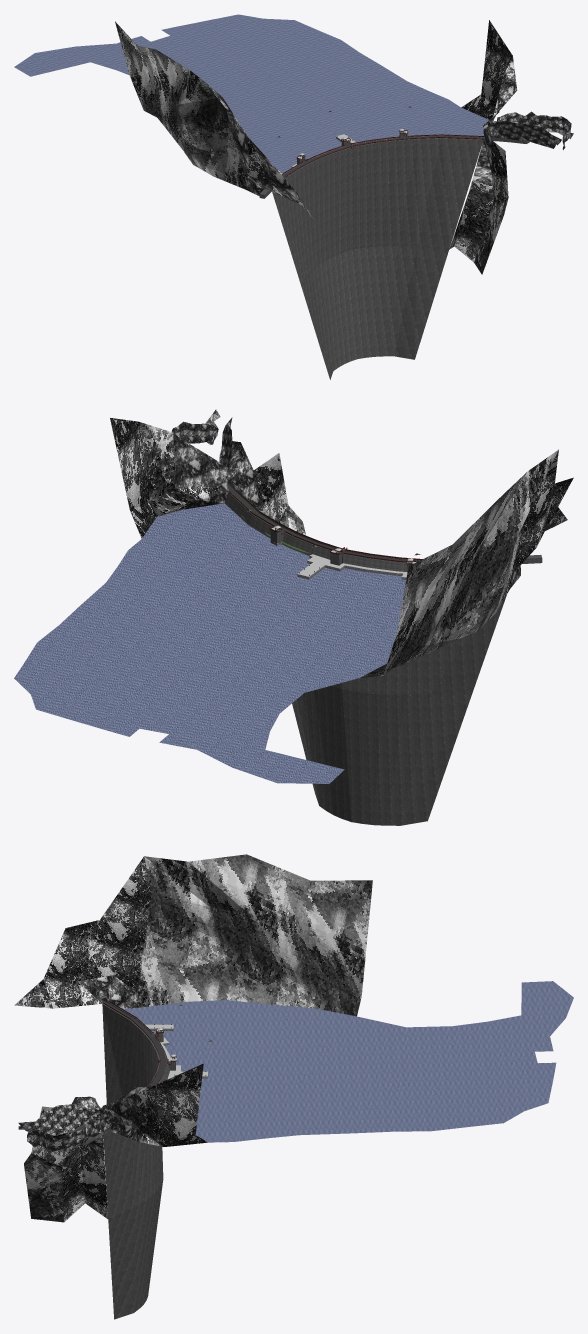
Rendered from dam8.obj.
3 renders of one model, top to bottom at view 1: azimuth 30°, elevation 25°; view 2: azimuth 150°, elevation 25°; view 3: azimuth 270°, elevation 25°, orthographic. The views are drawn at different scales.
Parts seen in each view (by area): view 1: 003_4E6D6411_c.bmp, 134_255D277A_c.bmp, 130_255D277A_c.bmp, 004_103AE2DC_c.bmp, 002_250FD62A_c.bmp, 001_103AE2DC_c.bmp, 138_255D277A_c.bmp, 136_255D277A_c.bmp, 137_255D277A_c.bmp, 131_255D277A_c.bmp, 133_255D277A_c.bmp, 005_250FD62A_c.bmp (+3 smaller); view 2: 003_4E6D6411_c.bmp, 004_103AE2DC_c.bmp, 133_255D277A_c.bmp, 005_250FD62A_c.bmp, 138_255D277A_c.bmp, 132_255D277A_c.bmp, 131_255D277A_c.bmp, 000_250FD62A_c.bmp, 002_250FD62A_c.bmp, 130_255D277A_c.bmp, 009_250FD62A_c.bmp, 001_103AE2DC_c.bmp (+5 smaller); view 3: 003_4E6D6411_c.bmp, 004_103AE2DC_c.bmp, 000_250FD62A_c.bmp, 001_103AE2DC_c.bmp, 002_250FD62A_c.bmp, 005_250FD62A_c.bmp, 130_255D277A_c.bmp, 134_255D277A_c.bmp, 138_255D277A_c.bmp, 009_250FD62A_c.bmp, 131_255D277A_c.bmp.
Boxes of the visible parts, x1=… form: 003_4E6D6411_c.bmp: x1=14, y1=14, x2=488, y2=173; 134_255D277A_c.bmp: x1=381, y1=138, x2=483, y2=249; 130_255D277A_c.bmp: x1=374, y1=245, x2=448, y2=359; 004_103AE2DC_c.bmp: x1=115, y1=21, x2=212, y2=175; 002_250FD62A_c.bmp: x1=449, y1=140, x2=508, y2=274; 001_103AE2DC_c.bmp: x1=178, y1=70, x2=246, y2=189; 138_255D277A_c.bmp: x1=272, y1=159, x2=327, y2=285; 136_255D277A_c.bmp: x1=350, y1=141, x2=393, y2=249; 137_255D277A_c.bmp: x1=318, y1=148, x2=352, y2=258; 131_255D277A_c.bmp: x1=350, y1=246, x2=380, y2=358; 133_255D277A_c.bmp: x1=301, y1=259, x2=344, y2=379; 005_250FD62A_c.bmp: x1=461, y1=20, x2=517, y2=135; 003_4E6D6411_c.bmp: x1=14, y1=503, x2=482, y2=783; 004_103AE2DC_c.bmp: x1=360, y1=471, x2=527, y2=677; 133_255D277A_c.bmp: x1=374, y1=690, x2=473, y2=825; 005_250FD62A_c.bmp: x1=110, y1=418, x2=228, y2=538; 138_255D277A_c.bmp: x1=382, y1=595, x2=506, y2=695; 132_255D277A_c.bmp: x1=342, y1=689, x2=382, y2=824; 131_255D277A_c.bmp: x1=314, y1=685, x2=351, y2=821; 000_250FD62A_c.bmp: x1=510, y1=450, x2=573, y2=588; 002_250FD62A_c.bmp: x1=237, y1=453, x2=305, y2=535; 130_255D277A_c.bmp: x1=292, y1=690, x2=333, y2=814; 009_250FD62A_c.bmp: x1=171, y1=409, x2=232, y2=468; 001_103AE2DC_c.bmp: x1=495, y1=449, x2=558, y2=612; 003_4E6D6411_c.bmp: x1=123, y1=981, x2=573, y2=1142; 004_103AE2DC_c.bmp: x1=188, y1=854, x2=372, y2=1016; 000_250FD62A_c.bmp: x1=14, y1=856, x2=151, y2=1008; 001_103AE2DC_c.bmp: x1=138, y1=856, x2=209, y2=1007; 002_250FD62A_c.bmp: x1=24, y1=1106, x2=108, y2=1222; 005_250FD62A_c.bmp: x1=104, y1=1063, x2=207, y2=1146; 130_255D277A_c.bmp: x1=108, y1=1194, x2=154, y2=1319; 134_255D277A_c.bmp: x1=103, y1=1124, x2=154, y2=1219; 138_255D277A_c.bmp: x1=102, y1=1004, x2=151, y2=1104; 009_250FD62A_c.bmp: x1=18, y1=1104, x2=112, y2=1151; 131_255D277A_c.bmp: x1=144, y1=1179, x2=163, y2=1303.
Bounding box in the file's own units: 7.62 × 6.84 × 9.76.
